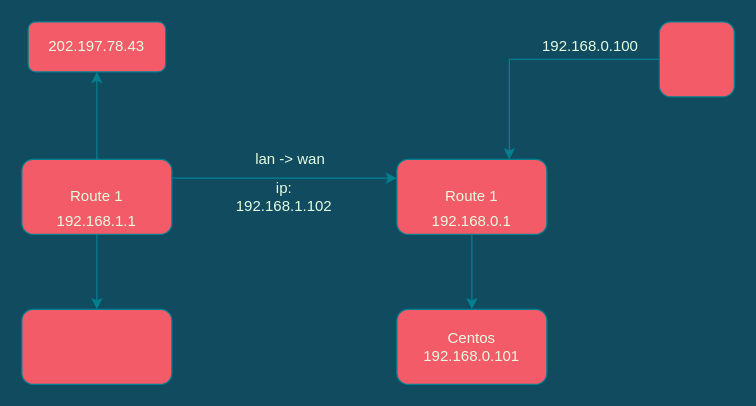
This 756x406 diagram has some shape labels left out. Each missing label, with the box of its shape:
Centos 192.168.1.103: (21, 308, 172, 384)
me: (658, 21, 734, 97)
